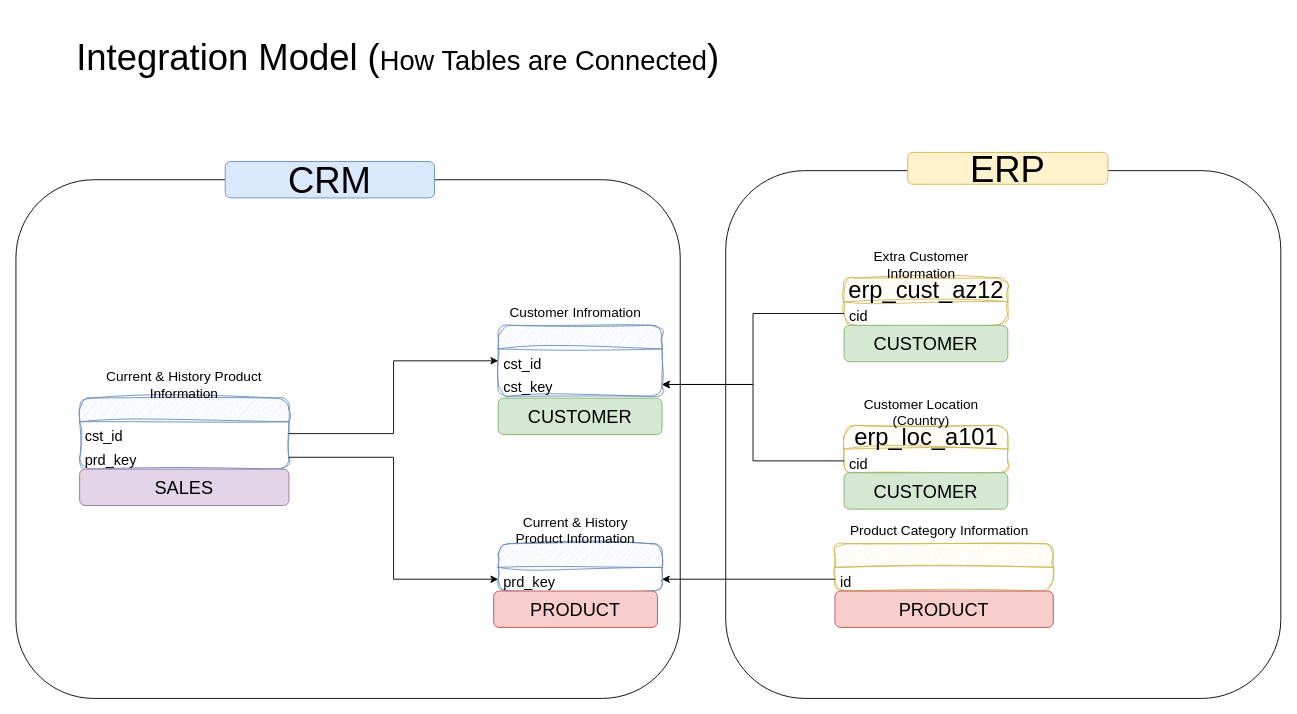
Image size: 1297x714. Some labels were removed from this diagram. Here are the shapes that lost their labels. From the top down, the box of each, then its label:
(497, 324, 662, 396): crm_cust_info
(79, 397, 289, 469): crm_sales_detailes
(497, 543, 662, 591): crm_prd_info
(834, 543, 1053, 591): erp_px_cat_g1v2
